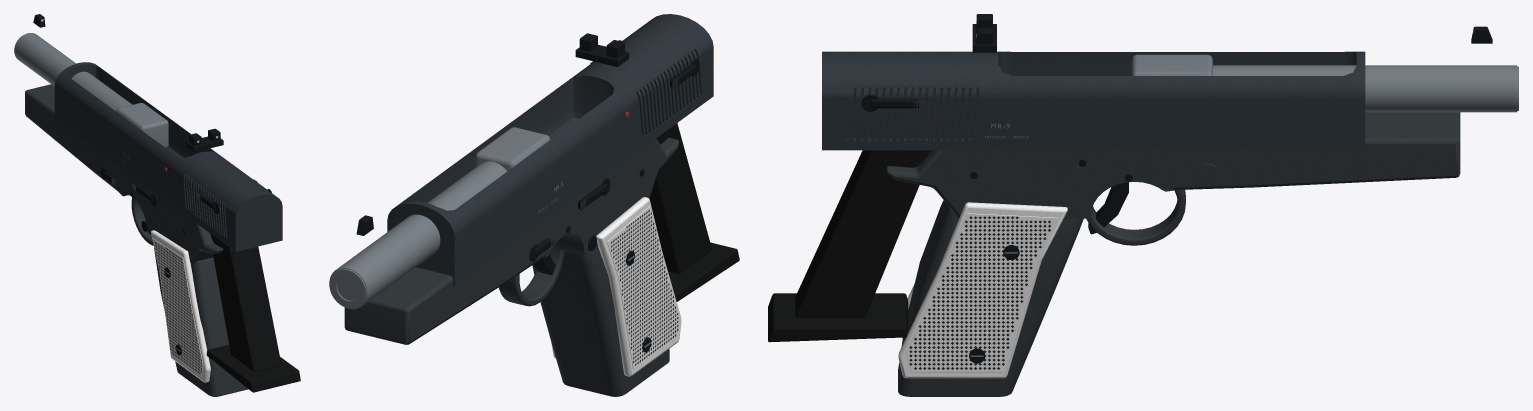
Rendered from weapon-69-BM9DZWWb.glb.
3 views of the same model, side by side, from view 1: azimuth 30°, elevation 25°; view 2: azimuth 150°, elevation 25°; view 3: azimuth 270°, elevation 25° (orthographic). The views are drawn at different scales.
Visible parts, largest first — view 1: salient_weapon_body, salient_weapon_bolt, salient_weapon_magazine, salient_weapon_iron; view 2: salient_weapon_body, salient_weapon_bolt, salient_weapon_magazine, salient_weapon_iron; view 3: salient_weapon_body, salient_weapon_bolt, salient_weapon_magazine, salient_weapon_iron.
Part boxes in pixels (left/top/right/bottom): salient_weapon_body: left=14, top=33, right=248, bottom=396; salient_weapon_bolt: left=54, top=62, right=282, bottom=251; salient_weapon_magazine: left=206, top=234, right=300, bottom=392; salient_weapon_iron: left=33, top=14, right=223, bottom=152; salient_weapon_body: left=329, top=111, right=681, bottom=396; salient_weapon_bolt: left=387, top=14, right=713, bottom=285; salient_weapon_magazine: left=649, top=123, right=739, bottom=301; salient_weapon_iron: left=356, top=33, right=629, bottom=235; salient_weapon_body: left=886, top=54, right=1518, bottom=396; salient_weapon_bolt: left=822, top=51, right=1365, bottom=150; salient_weapon_magazine: left=768, top=150, right=931, bottom=342; salient_weapon_iron: left=972, top=14, right=1492, bottom=52.
Size of the model in its own units: 0.0373 by 0.1456 by 0.2763.
13 materials, 5 textured.
